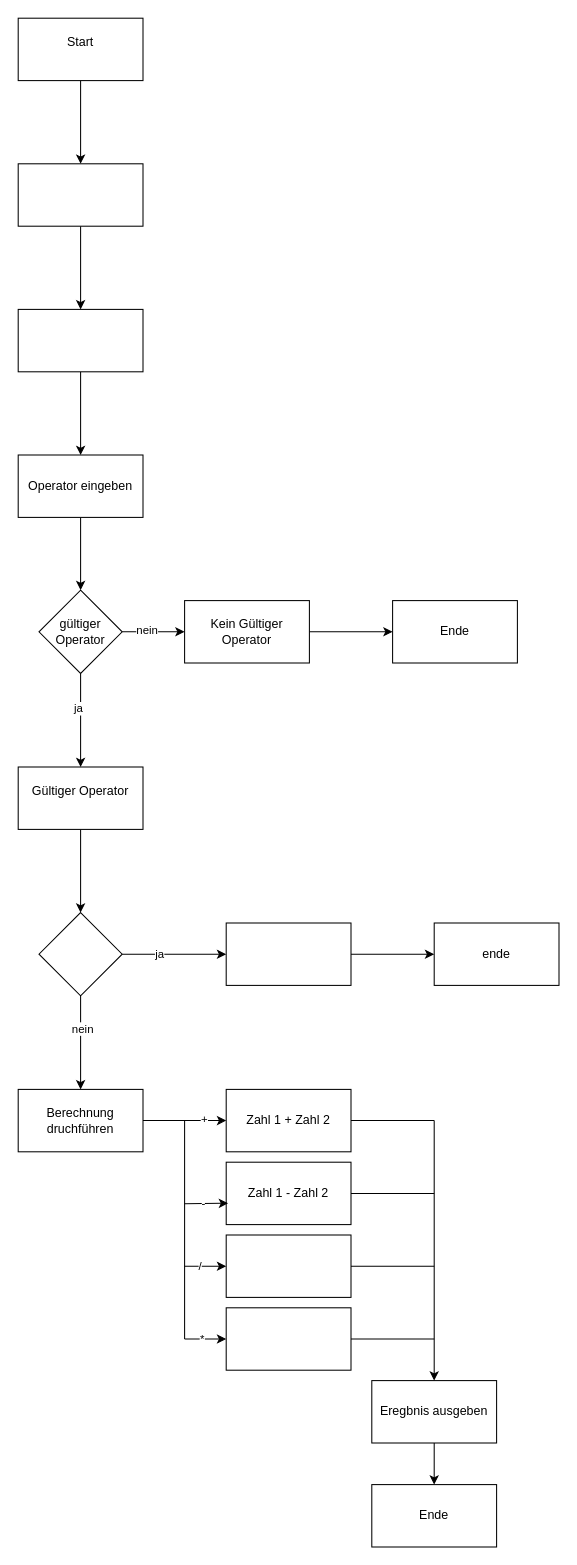
Some shapes in this 577 by 1565 pixel diagram are drawn without their labels. The shapes that lost their labels are listed below. From the top down, each one's box as (x1, y1, x2, y2) in pixels, then its label:
(17, 163, 143, 226): Zahl 1 eingeben
(17, 308, 143, 372): Zahl 2 eingeben
(38, 912, 122, 996): Zahl 2 ist null bei Operator Divison
(225, 922, 351, 985): Divison durch 0 nicht möglich
(225, 1234, 351, 1297): Zahl 1 / Zahl 2
(225, 1307, 351, 1370): Zahl 1 * Zahl 2
